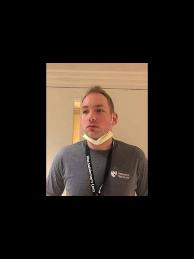mask_weared_incorrect: (83, 101, 113, 145)
